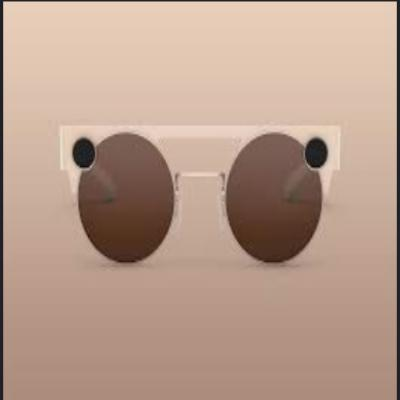glasses: (53, 119, 350, 272)
